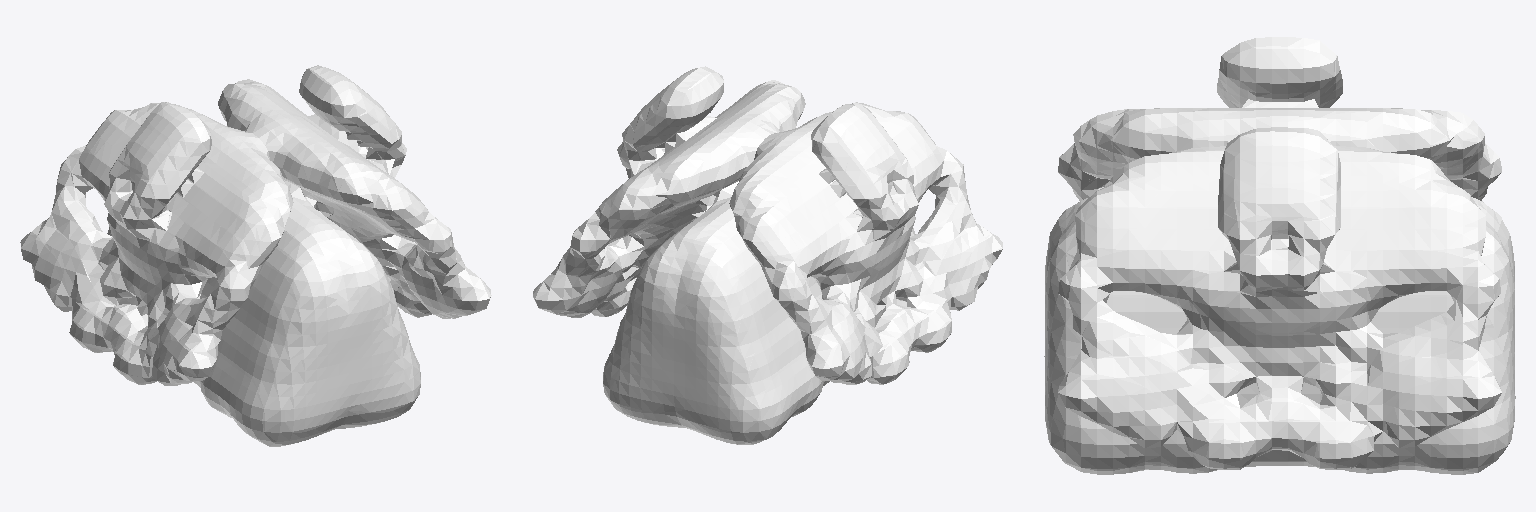
The robot description file, URDF, robot "model.urdf":
<robot name="model.urdf">
    <link name="baseLink">
        <contact>
            <lateral_friction value="0.4" />
            <rolling_friction value="0.001" />
            <spinning_friction value="0.001" />
            <contact_cfm value="0.0" />
            <contact_erp value="1.0" />
        </contact>
        <inertial>
            <origin rpy="0 0 0" xyz="0 0.0 -0.02" />
            <mass value=".497" />
            <inertia ixx="1e-3" ixy="0" ixz="0" iyy="1e-3" iyz="0" izz="1e-3" />
        </inertial>
        <visual>
            <geometry>
                <mesh filename="L22_0.obj" scale="0.001 0.001 0.001" />
            </geometry>
            <material name="white">
                <color rgba="1 1 1 1" />
            </material>
        </visual>
        <collision>
            <geometry>
                <mesh filename="L22_0.obj" scale="0.001 0.001 0.001" />
            </geometry>
        </collision>
    </link>
</robot>

--- Render facts (derived) ---
3 views of the same robot in one strip: view 1: azimuth 30°, elevation 25°; view 2: azimuth 150°, elevation 25°; view 3: azimuth 270°, elevation 25° (orthographic).
Robot: model.urdf — 1 links, 0 joints (none); root link baseLink; default pose: every joint at zero.
Links seen in each view (by area): view 1: baseLink; view 2: baseLink; view 3: baseLink.
Link boxes in pixels (box(x1,y1,x2,y2)): baseLink: box(20, 65, 491, 446); baseLink: box(533, 66, 1002, 444); baseLink: box(1044, 37, 1515, 474).
Size in the robot's own frame: 0.093 by 0.0961 by 0.08 metres.
1 mesh visuals loaded from 1 distinct referenced files (1 OBJ).